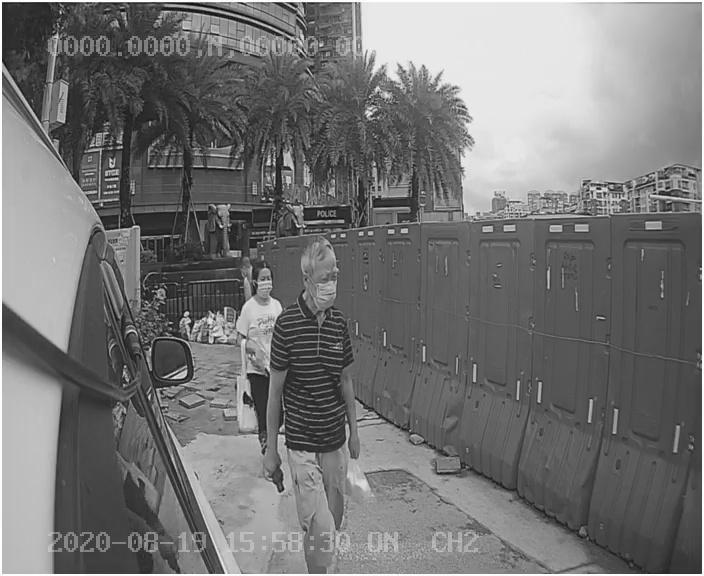person: (253, 235, 391, 530)
